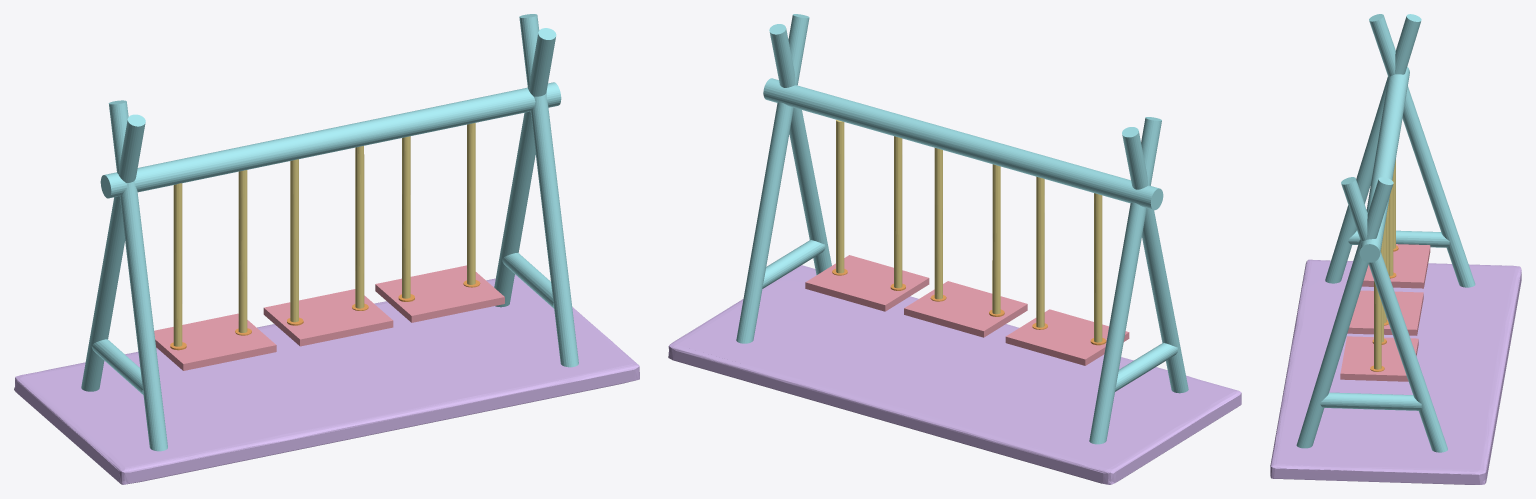
File: swing.glb
The picture shows the model from 3 angles, left to right: view 1: azimuth 30°, elevation 25°; view 2: azimuth 150°, elevation 25°; view 3: azimuth 270°, elevation 25°; orthographic projection. The views are drawn at different scales.
Parts seen in each view (by area): view 1: Box 1.001; view 2: Box 1.001; view 3: Box 1.001.
Boxes of the visible parts, x1,y1,x2,y2 form: Box 1.001: (14, 14, 639, 484); Box 1.001: (668, 14, 1241, 484); Box 1.001: (1270, 14, 1521, 484).
Bounding box in the file's own units: 2.91 × 1.78 × 1.44.
